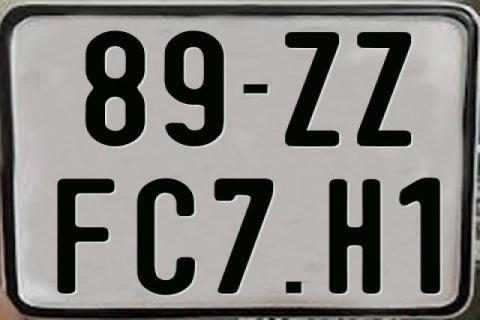0: (162, 30, 225, 150), (84, 28, 146, 147), (211, 178, 270, 296), (396, 178, 438, 294)
C: (137, 176, 196, 294)
F: (54, 176, 114, 295)
H: (327, 178, 384, 296)
Z: (354, 31, 412, 147), (284, 31, 339, 145)
